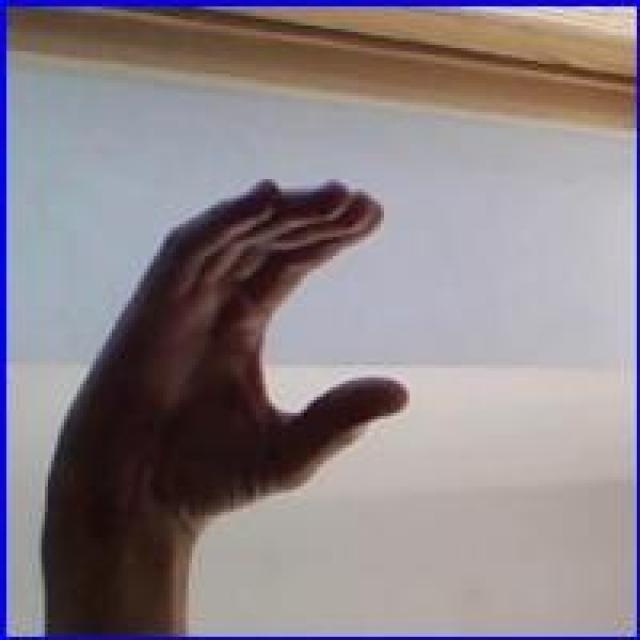C: (61, 174, 416, 552)
